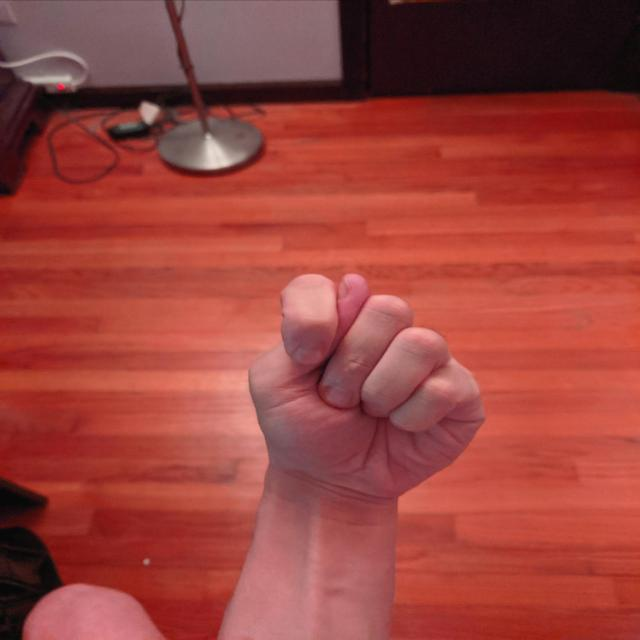T: (239, 266, 495, 508)
